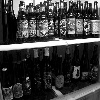beer: (17, 5, 33, 38)
